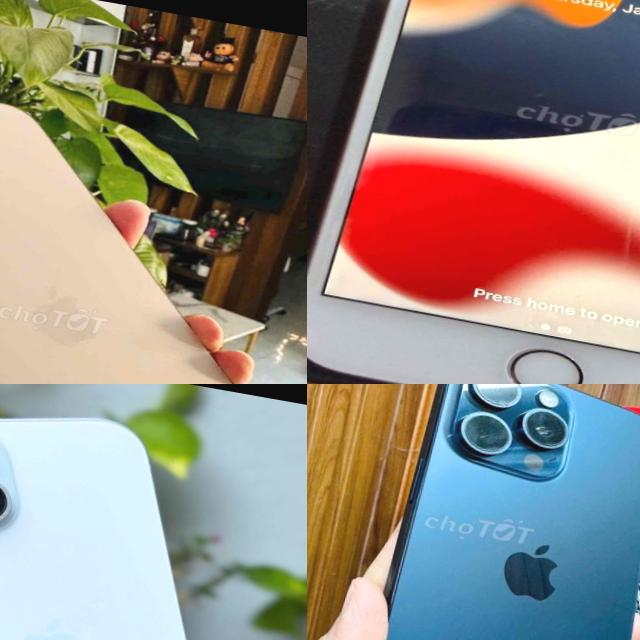gen_15: (0, 384, 307, 640), (339, 384, 640, 640)
gen_16: (0, 104, 232, 384)
gen_7_8: (307, 0, 640, 384)
scratch: (606, 198, 639, 262)
